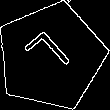L_SE: (22, 27, 79, 86)
